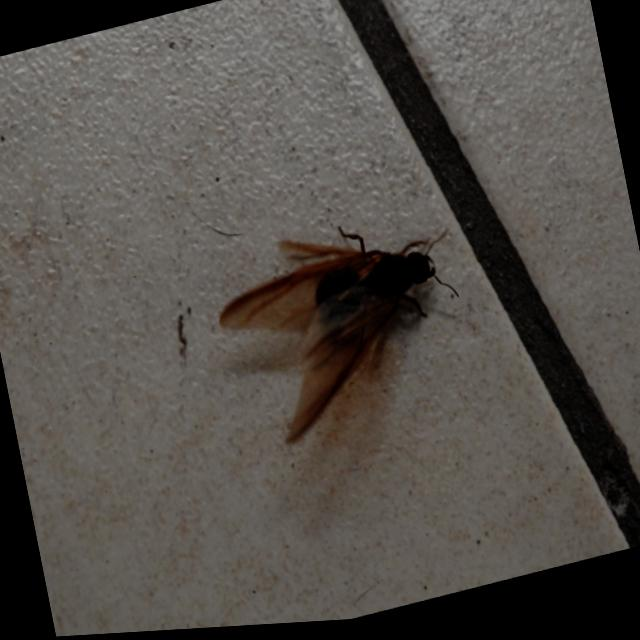Alive-Female-Alate: (207, 202, 482, 463)
